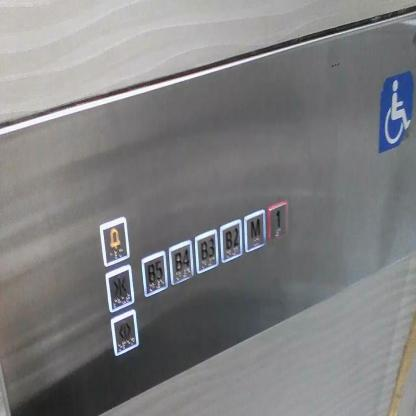1: (265, 197, 290, 246)
B2: (218, 216, 244, 264)
B3: (193, 226, 220, 277)
B4: (166, 235, 194, 288)
B5: (140, 248, 170, 299)
M: (242, 205, 267, 254)
alarm: (96, 213, 132, 268)
close: (104, 264, 135, 317)
open: (108, 306, 140, 359)
